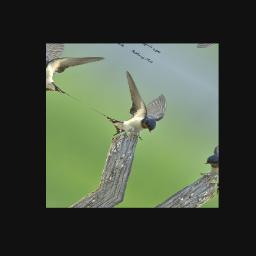Swallow: (83, 66, 178, 150)
